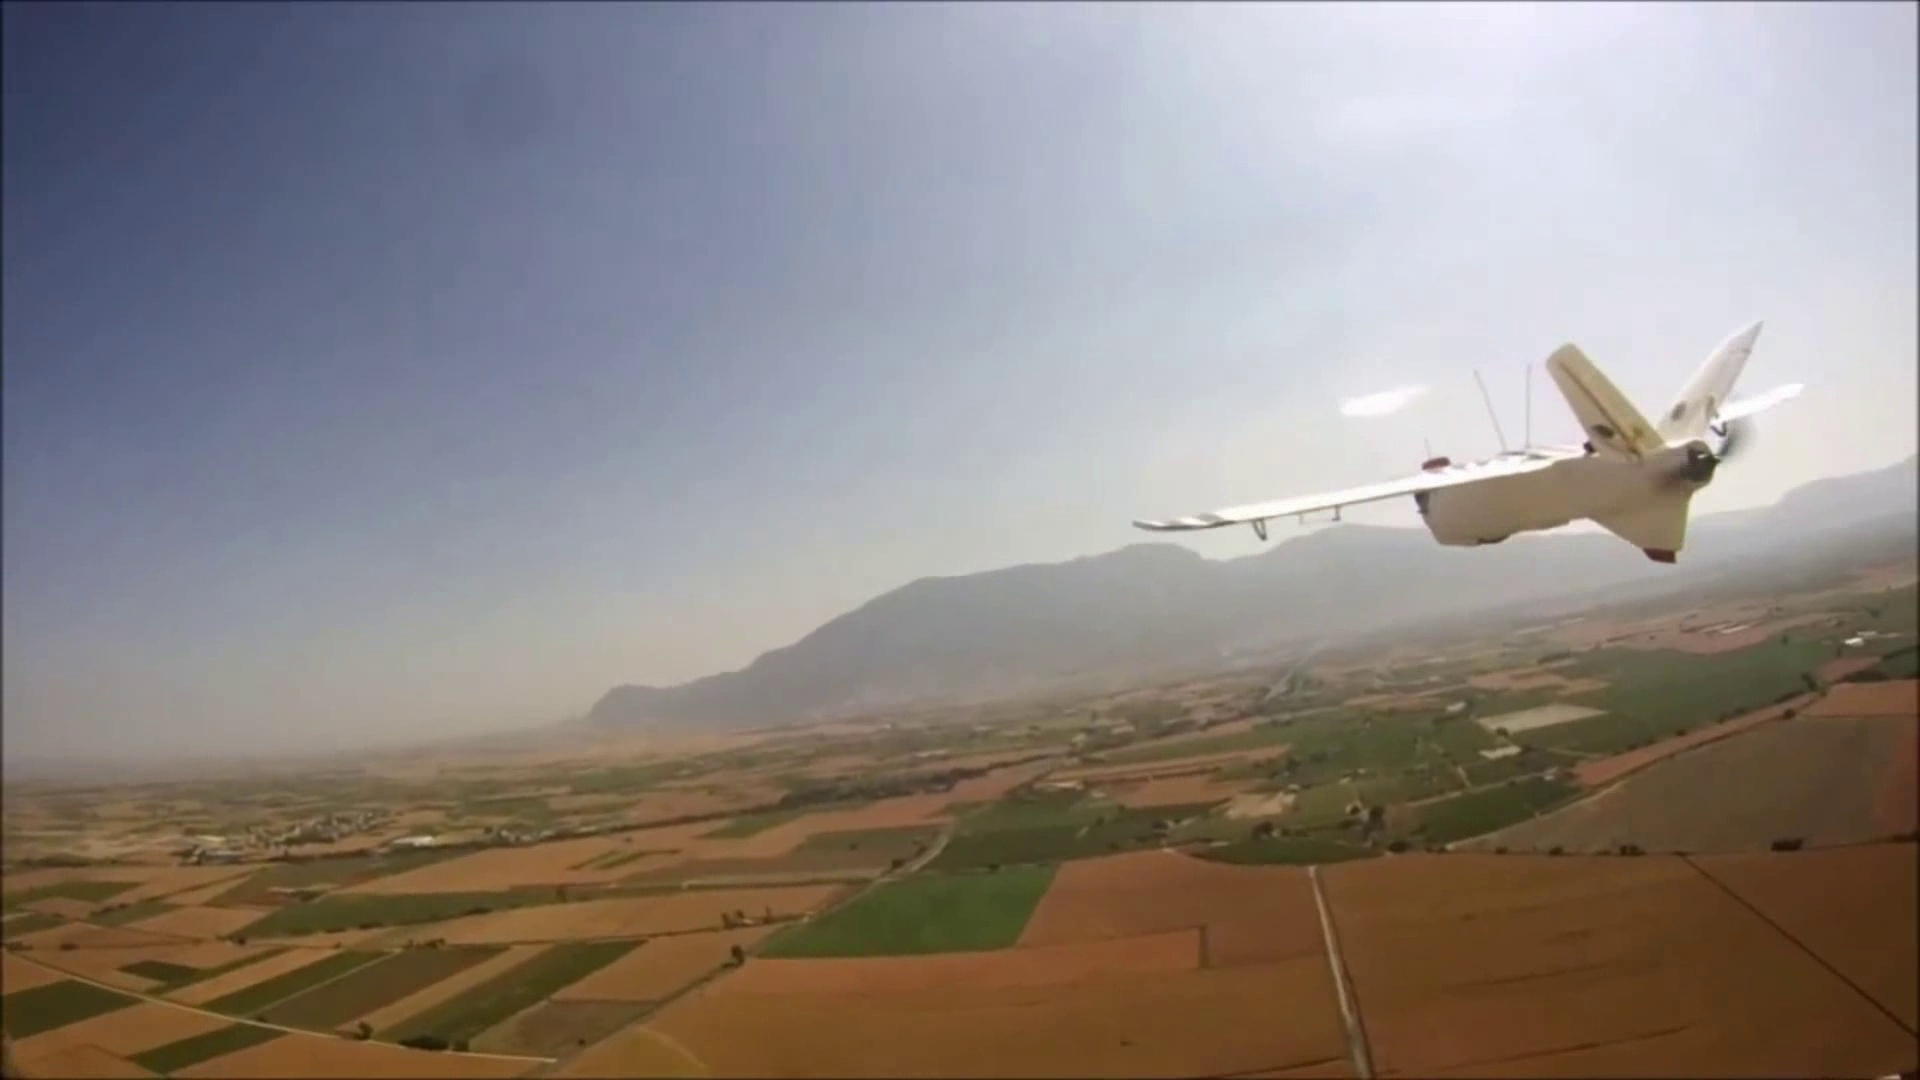airplane: (1135, 316, 1799, 568)
